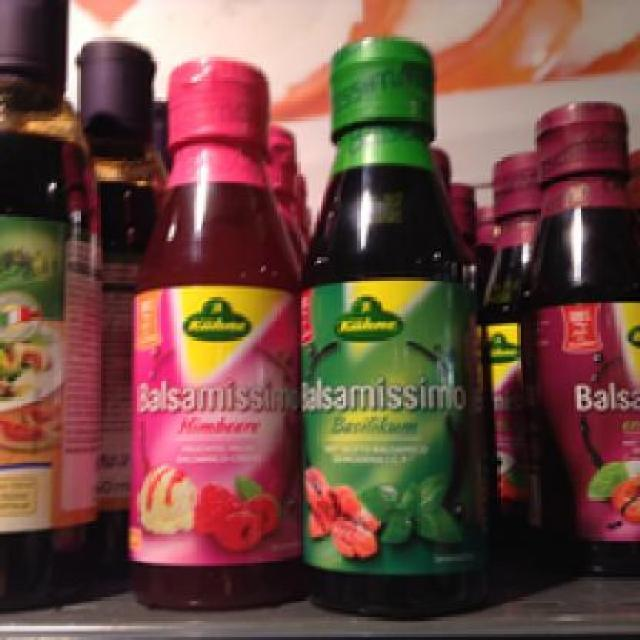Vinegar: (291, 37, 524, 603), (108, 60, 314, 606), (514, 106, 637, 588)
